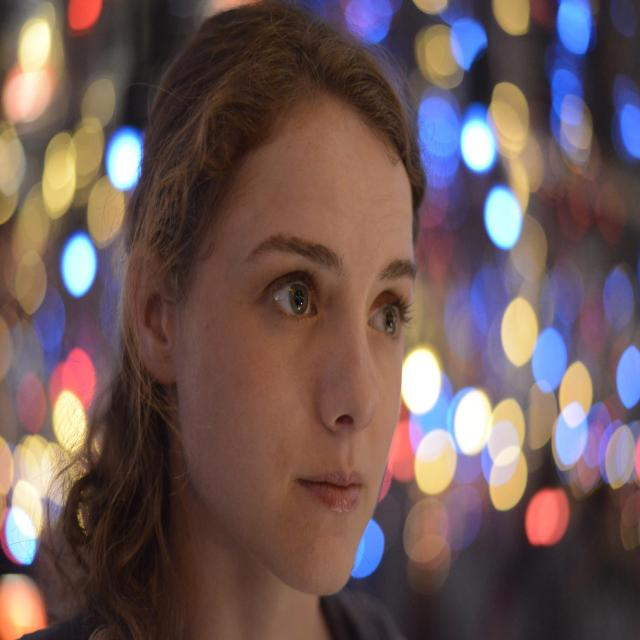no-earmuff: (118, 220, 194, 394)
